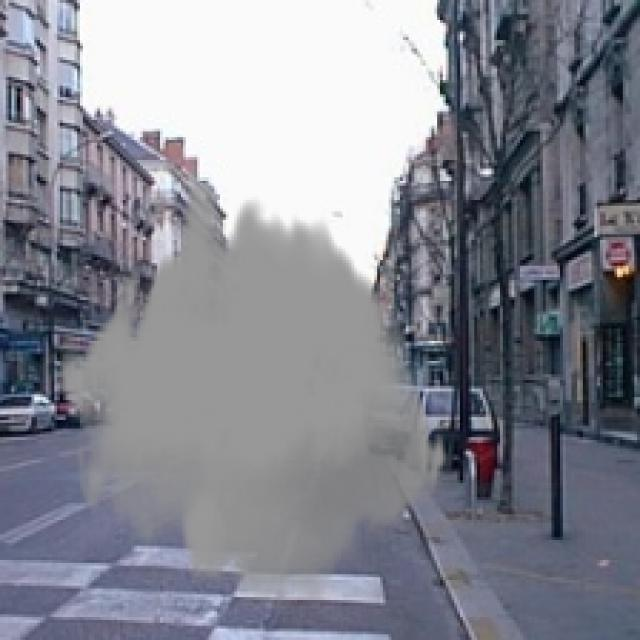Smoke: (57, 186, 449, 608)
